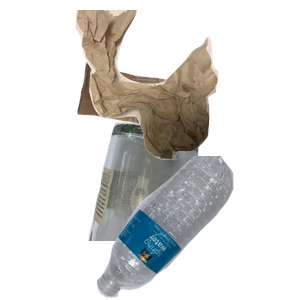cardboard: (75, 59, 237, 176)
glass: (86, 120, 277, 300)
plastic: (94, 156, 300, 300)
trash: (73, 10, 300, 163)
